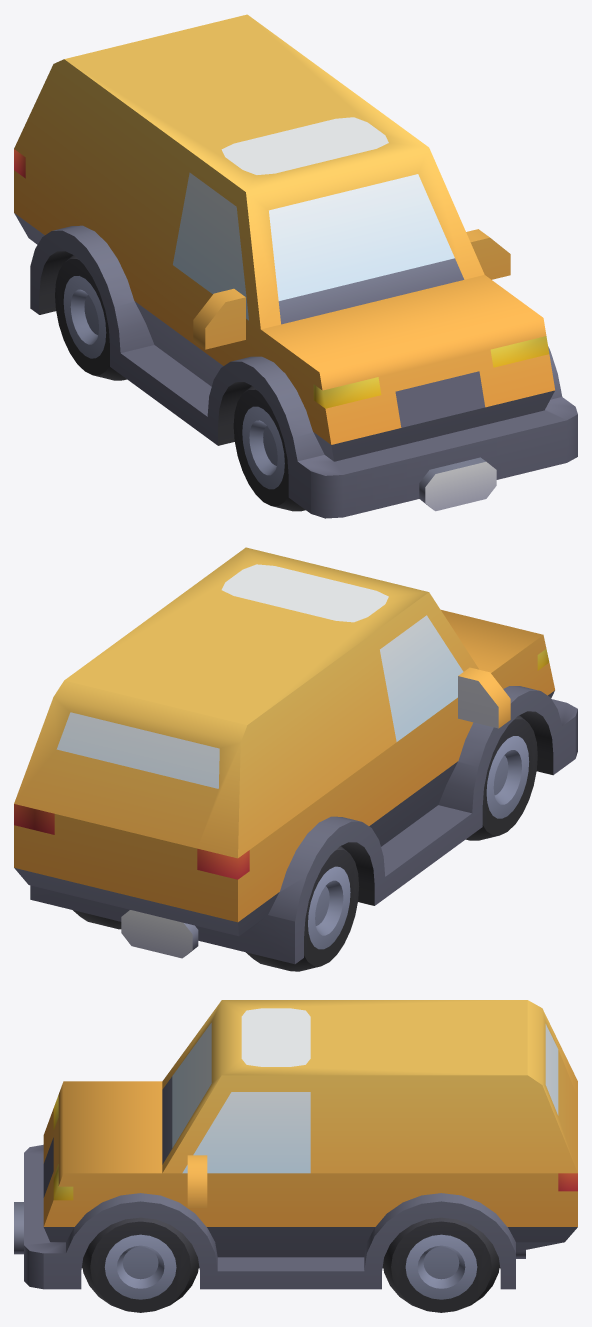
Rendered from korando.glb.
3 renders of one model, top to bottom at view 1: azimuth 30°, elevation 25°; view 2: azimuth 150°, elevation 25°; view 3: azimuth 270°, elevation 25°, orthographic. The views are drawn at different scales.
Parts seen in each view (by area): view 1: body, wheel-front-right, wheel-back-right; view 2: body, wheel-back-right, wheel-front-right; view 3: body, wheel-back-left, wheel-front-left.
Boxes of the visible parts, x1,y1,x2,y2 form: body: (14, 14, 577, 518); wheel-front-right: (233, 386, 305, 511); wheel-back-right: (55, 255, 126, 380); body: (14, 547, 577, 964); wheel-back-right: (246, 846, 359, 971); wheel-front-right: (466, 715, 537, 840); body: (14, 1000, 577, 1289); wheel-back-left: (383, 1217, 499, 1312); wheel-front-left: (82, 1217, 198, 1312).
Size of the model in its own units: 1.5 by 1.3 by 2.85.
Materials: 1 (1 with a texture image).
